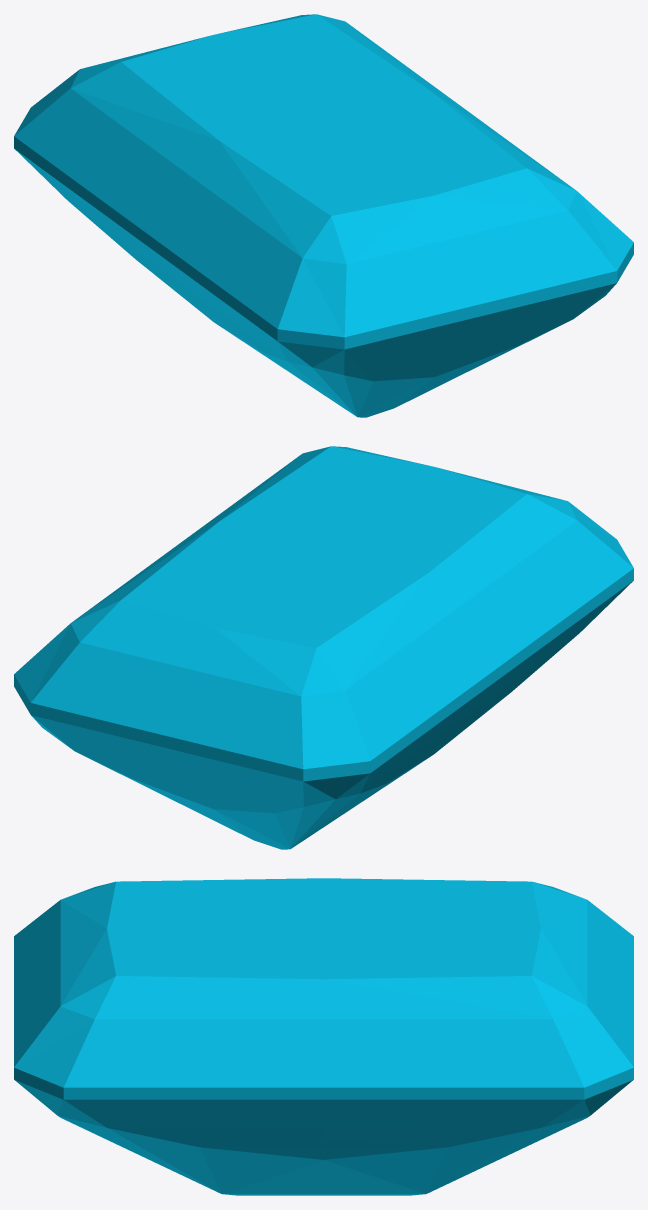
Rendered from Head_Single Halo_Radiant_0.50ct_Diamond.glb.
3 renders of one model, top to bottom at view 1: azimuth 30°, elevation 25°; view 2: azimuth 150°, elevation 25°; view 3: azimuth 270°, elevation 25°, orthographic.
Size of the model in its own units: 0.00376 by 0.00273 by 0.00574.
